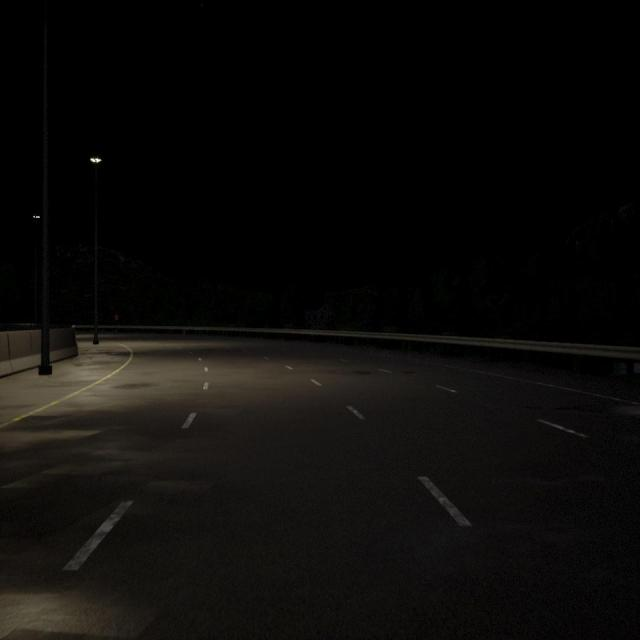Traffic_Signs: (115, 315, 118, 320)
